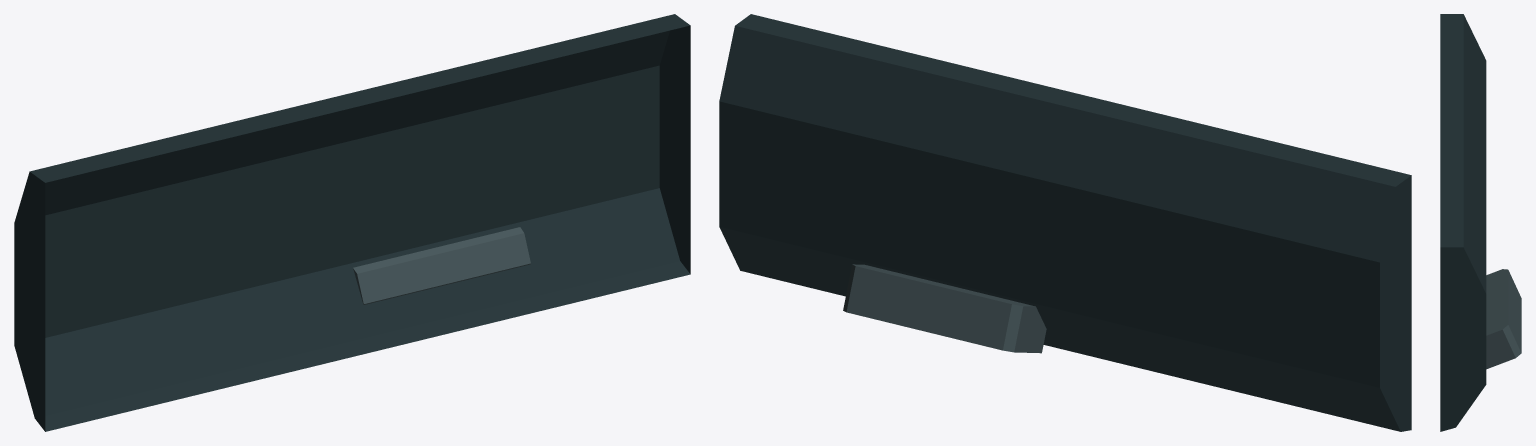
File: SM_light.fbx
3 views of the same model, side by side, from view 1: azimuth 30°, elevation 25°; view 2: azimuth 150°, elevation 25°; view 3: azimuth 270°, elevation 25° (orthographic). The views are drawn at different scales.
Parts seen in each view (by area): view 1: SM_light; view 2: SM_light; view 3: SM_light.
Part boxes in pixels (x1,y1,x2,y2): SM_light: (14,14,690,431); SM_light: (719,14,1411,431); SM_light: (1440,14,1521,431).
Size of the model in its own units: 300 by 111 by 44.07.
2 materials, 2 textured.
